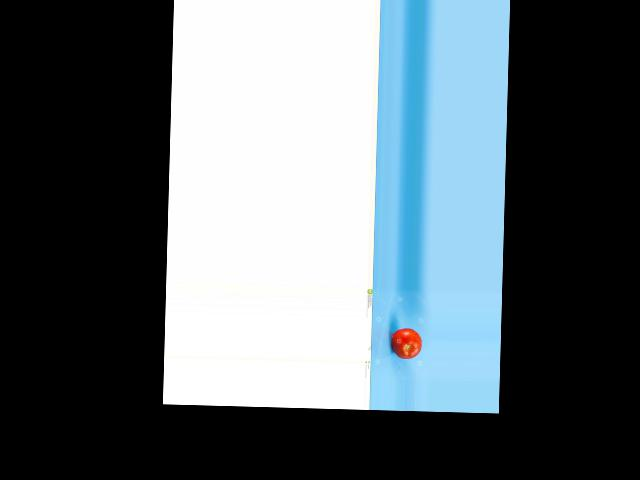tomato: (391, 328, 421, 360)
